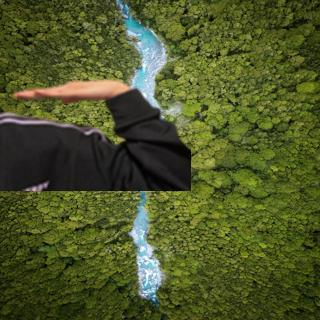Wait: (11, 70, 129, 109)
